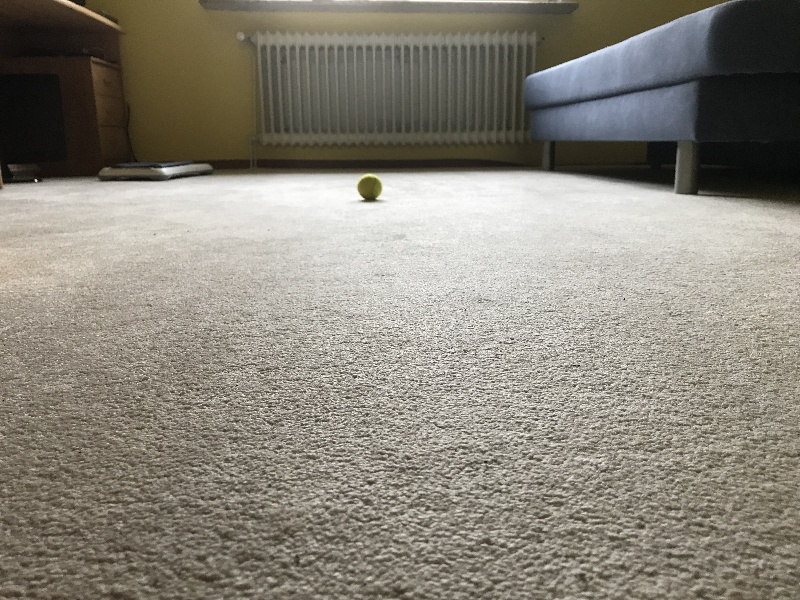Tennisball: (348, 169, 390, 209)
